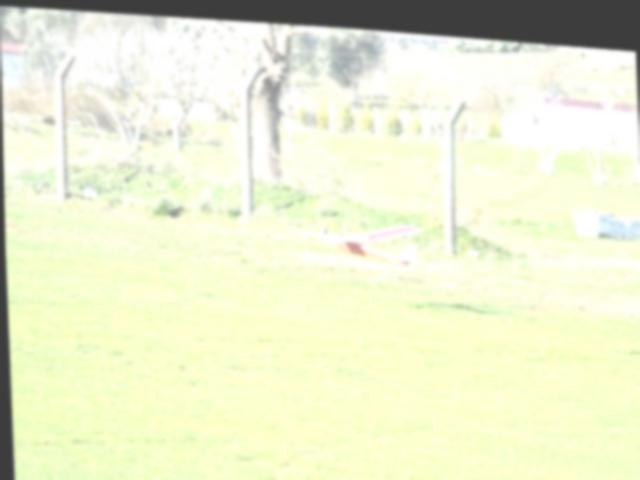iha: (277, 200, 425, 262)
